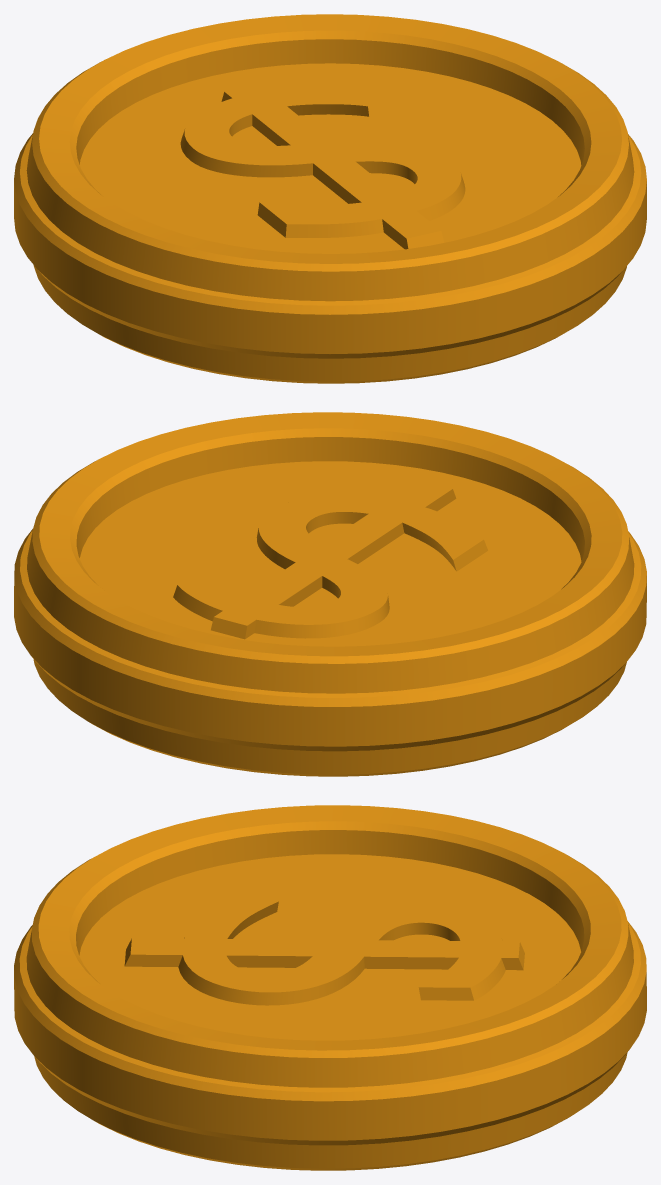
File: coin.fbx
3 views of the same model, one above another, from view 1: azimuth 30°, elevation 25°; view 2: azimuth 150°, elevation 25°; view 3: azimuth 270°, elevation 25° (orthographic).
Visible parts, largest first — view 1: Coin; view 2: Coin; view 3: Coin.
Boxes of the visible parts, x1,y1,x2,y2 form: Coin: (14, 14, 646, 383); Coin: (14, 412, 646, 776); Coin: (14, 805, 646, 1170).
Size of the model in its own units: 198 by 42.6 by 198.
